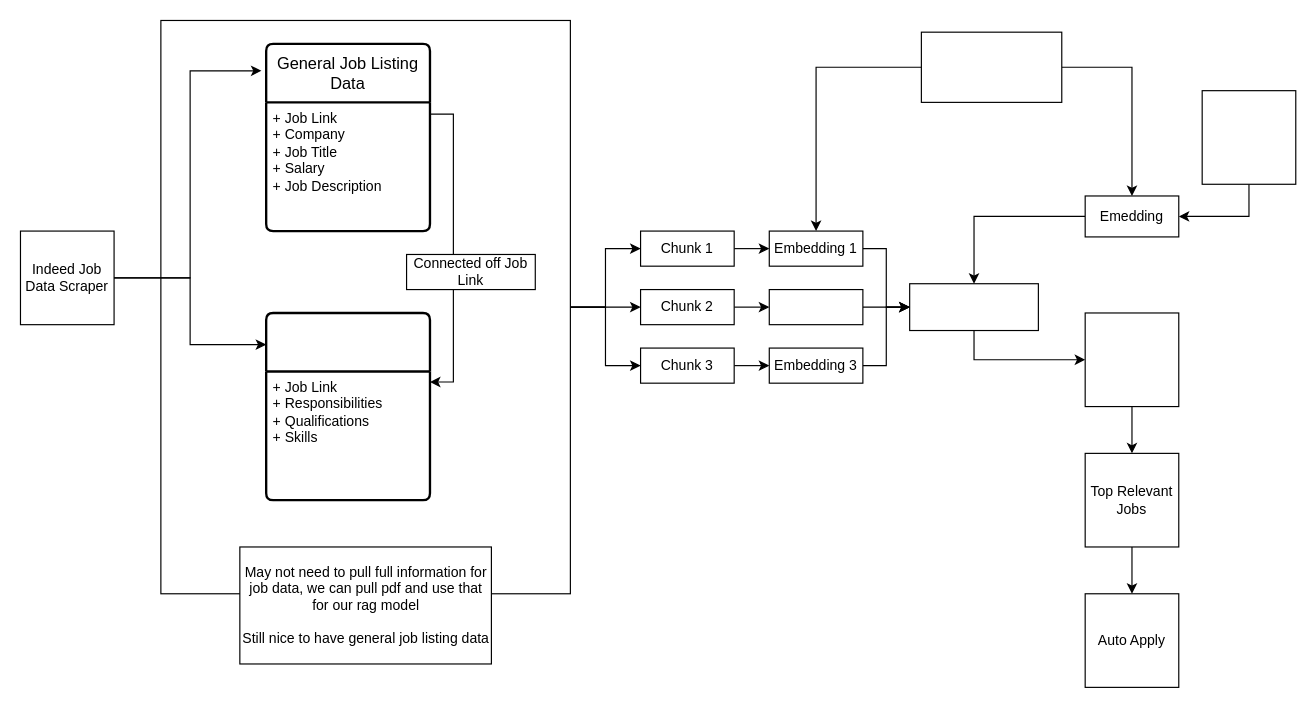
The diagram is 1316 pixels wide and 708 high, and some of its shapes have lost their labels. The box of each missing label's shape, as (x1, y1, x2, y2) in pixels:
Embedding 2: (768, 288, 863, 325)
Emedding Model: (920, 31, 1062, 102)
Job Data: (264, 311, 431, 501)
Relevent Chunks: (1084, 312, 1179, 407)
User Resume: (1201, 90, 1296, 184)
Vector DB: (909, 283, 1038, 331)
